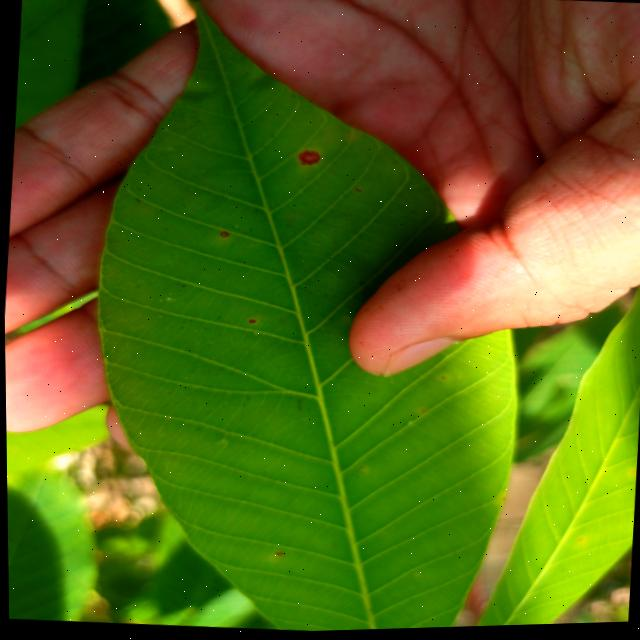Colletotrichum: (298, 153, 320, 166)
